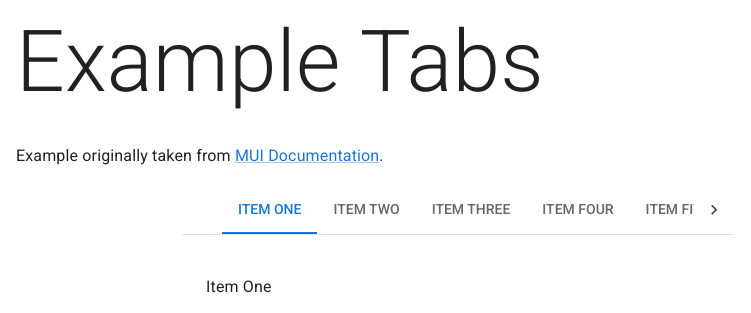
it: The Page › works as expected
expect the heading "Example Tabs" is shown: met, box [16, 12, 544, 112]
expect the tab "Item One" is shown: met, box [222, 186, 317, 234]
Click the tab "Item Two" at coordinates (366, 210), box [317, 186, 416, 234]
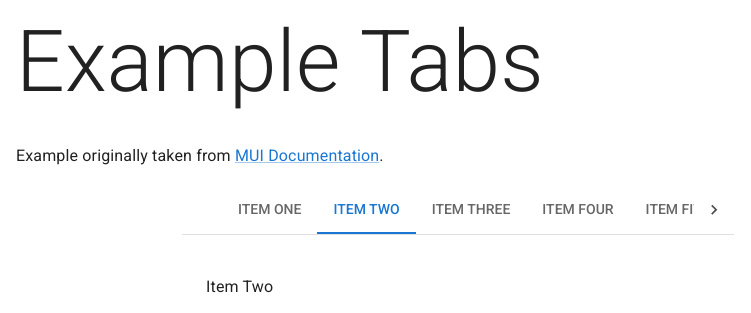
expect the panel "Item Two" is shown: met, box [206, 277, 273, 296]
